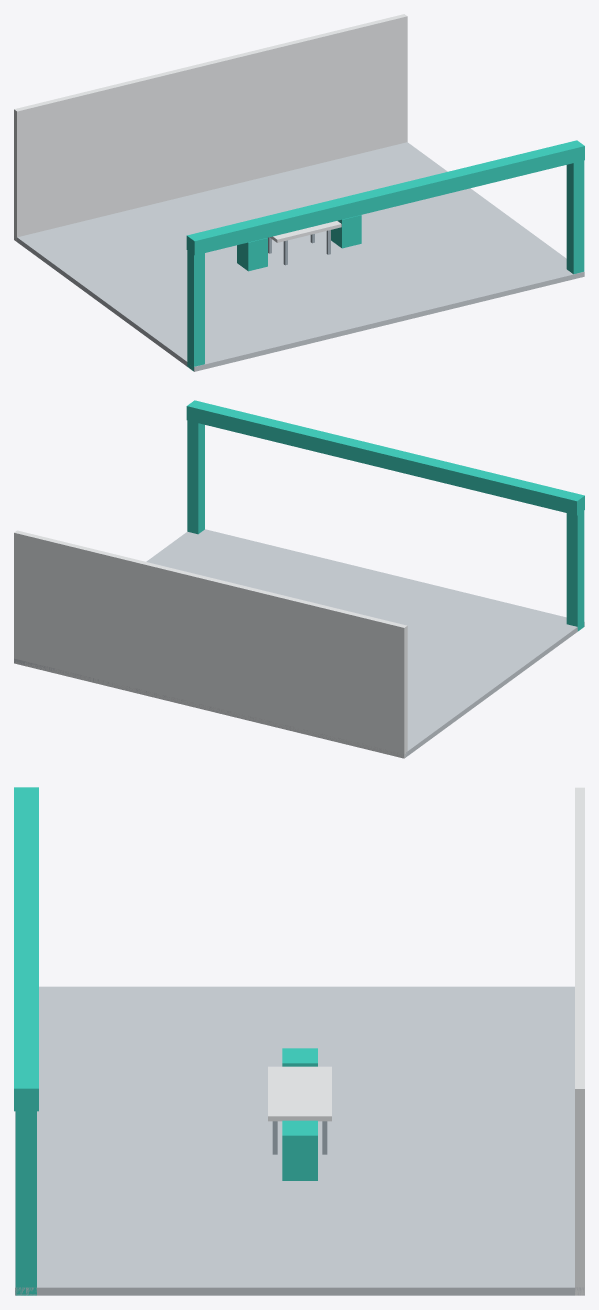
The picture shows the model from 3 angles, top to bottom: view 1: azimuth 30°, elevation 25°; view 2: azimuth 150°, elevation 25°; view 3: azimuth 270°, elevation 25°; orthographic projection. The views are drawn at different scales.
Visible parts, largest first — view 1: Exhibition Booth Concept; view 2: Exhibition Booth Concept; view 3: Exhibition Booth Concept.
Part boxes in pixels (x1,y1,x2,y2): Exhibition Booth Concept: (14, 14, 584, 371); Exhibition Booth Concept: (14, 400, 584, 758); Exhibition Booth Concept: (14, 787, 584, 1295).
Bounding box in the file's own units: 10 × 3.2 × 8.01.
